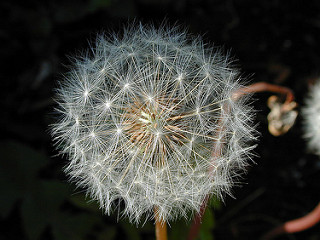dandelion: (43, 15, 261, 227)
